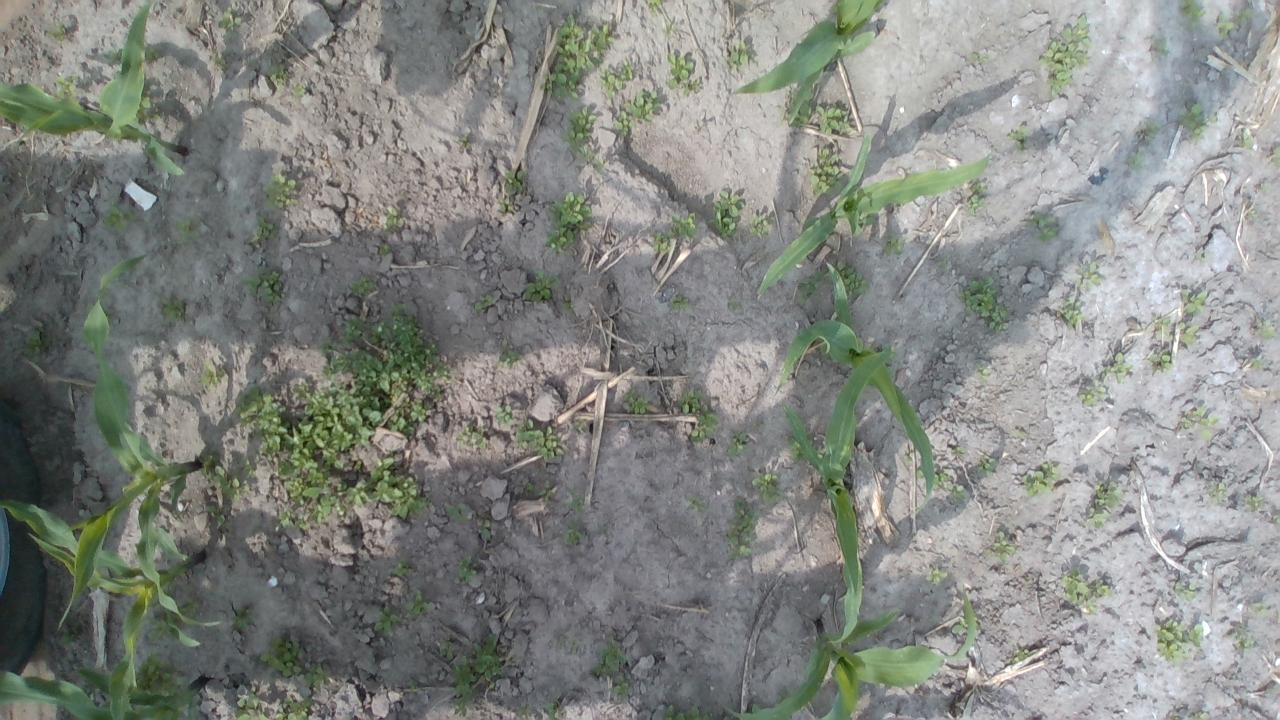Maize: (56, 253, 225, 634), (0, 499, 221, 720), (756, 134, 992, 297), (784, 254, 934, 499), (776, 342, 896, 648), (718, 588, 979, 720), (0, 0, 186, 179), (728, 0, 884, 125), (0, 665, 210, 720)
Weeds: (320, 300, 449, 434), (278, 379, 382, 530), (542, 12, 614, 100), (235, 385, 292, 457), (372, 456, 431, 521), (1043, 15, 1089, 96), (962, 274, 1009, 336), (1060, 568, 1114, 616), (196, 451, 242, 505), (612, 88, 662, 136), (1156, 618, 1206, 664), (146, 600, 198, 642), (259, 634, 306, 680), (726, 496, 758, 561), (129, 652, 175, 696), (240, 265, 286, 308), (516, 419, 564, 460), (1086, 483, 1124, 529), (810, 146, 846, 194), (550, 190, 593, 229), (666, 51, 702, 97), (711, 187, 742, 240), (592, 636, 632, 676), (470, 632, 503, 680), (1180, 104, 1218, 142), (453, 654, 475, 717), (831, 262, 868, 299), (264, 173, 298, 208), (1024, 462, 1058, 497), (751, 470, 784, 506), (564, 106, 594, 145), (600, 63, 632, 99), (236, 687, 270, 720), (784, 86, 810, 128), (522, 271, 556, 301), (690, 410, 720, 444), (816, 104, 850, 134), (797, 270, 824, 307), (274, 695, 313, 720), (23, 327, 48, 365), (1025, 213, 1057, 242), (100, 206, 133, 234), (991, 530, 1018, 564), (1178, 0, 1206, 32), (1104, 352, 1131, 385), (1062, 296, 1089, 328), (1180, 407, 1218, 429), (728, 38, 754, 70), (544, 226, 577, 251), (664, 703, 712, 720), (576, 146, 604, 175), (454, 558, 483, 586), (623, 384, 648, 416), (406, 591, 434, 619), (373, 607, 400, 636), (966, 177, 986, 216), (1076, 262, 1104, 289), (199, 359, 226, 386), (252, 214, 278, 242), (158, 294, 184, 322), (678, 388, 704, 416), (1180, 288, 1206, 316), (1232, 624, 1258, 652), (724, 430, 750, 457), (457, 426, 487, 449), (670, 212, 696, 238), (304, 662, 329, 688), (1080, 379, 1104, 406), (470, 292, 498, 314), (138, 96, 162, 121), (1146, 350, 1170, 375), (1206, 479, 1230, 504), (503, 168, 526, 194), (350, 272, 376, 294), (1178, 320, 1201, 344), (55, 74, 76, 100), (976, 454, 998, 478), (232, 606, 252, 632), (1172, 582, 1198, 602), (174, 216, 195, 240), (218, 8, 242, 29), (750, 214, 770, 238), (948, 483, 968, 507), (525, 479, 553, 496), (268, 64, 288, 86), (438, 638, 456, 662), (1008, 128, 1026, 152), (1154, 318, 1172, 341), (569, 488, 586, 512), (878, 343, 898, 363), (1258, 318, 1278, 338), (652, 232, 671, 253), (1216, 16, 1234, 38), (976, 362, 994, 384), (774, 686, 796, 704), (614, 675, 630, 699), (446, 503, 466, 522), (501, 347, 522, 365), (564, 527, 585, 545), (240, 454, 255, 479), (810, 439, 826, 462), (494, 404, 513, 423), (686, 494, 706, 512), (932, 468, 949, 489), (60, 628, 79, 646), (392, 559, 410, 578), (102, 48, 122, 65), (788, 438, 802, 462), (49, 24, 67, 42), (542, 702, 560, 720), (1142, 122, 1160, 140), (886, 238, 904, 255), (455, 135, 473, 152), (1238, 7, 1254, 26), (927, 568, 946, 584), (1246, 494, 1266, 509), (1151, 40, 1169, 56), (498, 198, 518, 212), (212, 56, 226, 76), (144, 45, 162, 60), (518, 702, 532, 720), (478, 521, 492, 539), (672, 295, 688, 310), (1128, 154, 1143, 170), (951, 620, 968, 634), (386, 207, 398, 226), (970, 52, 989, 64), (664, 21, 678, 37), (648, 0, 665, 13), (1252, 600, 1267, 614), (751, 703, 768, 715), (1013, 650, 1030, 662), (378, 241, 391, 256), (1242, 132, 1254, 148), (1011, 427, 1026, 439), (292, 84, 306, 96), (1273, 142, 1280, 166), (860, 216, 876, 226), (1248, 358, 1262, 369), (562, 300, 574, 312), (1201, 429, 1212, 441), (1262, 182, 1272, 195), (569, 640, 578, 654), (915, 468, 925, 480), (951, 446, 964, 455), (206, 503, 216, 514), (409, 681, 419, 692), (903, 455, 913, 466), (217, 514, 226, 524), (1199, 250, 1206, 262), (1194, 713, 1205, 720), (728, 303, 737, 311), (1274, 514, 1280, 524)
